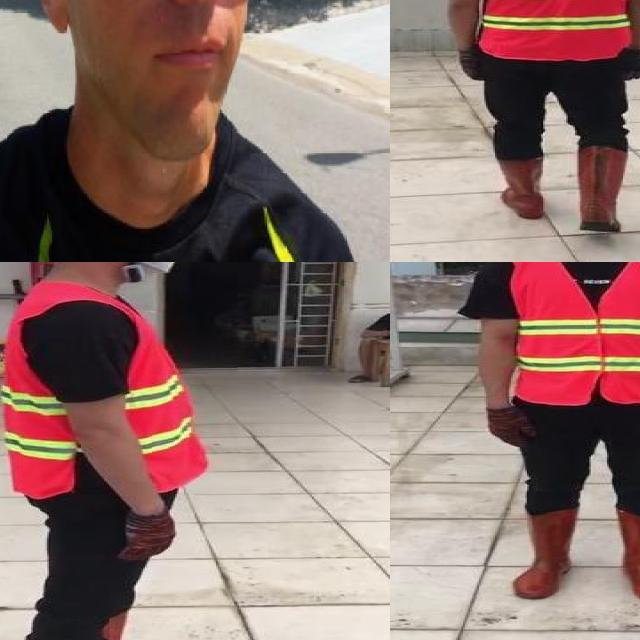boots: (516, 507, 582, 599), (577, 145, 630, 232), (495, 156, 550, 219), (612, 509, 640, 602), (107, 612, 187, 640)
face_mask: (107, 262, 191, 281)
face_nomask: (74, 0, 275, 93)
hand_glove: (116, 511, 177, 559), (486, 407, 540, 449), (456, 48, 486, 82), (623, 49, 640, 82)
person: (0, 0, 331, 262), (0, 262, 228, 640), (458, 262, 640, 606), (433, 0, 640, 241)
vest: (3, 282, 205, 499), (509, 262, 640, 406), (475, 0, 640, 57)
